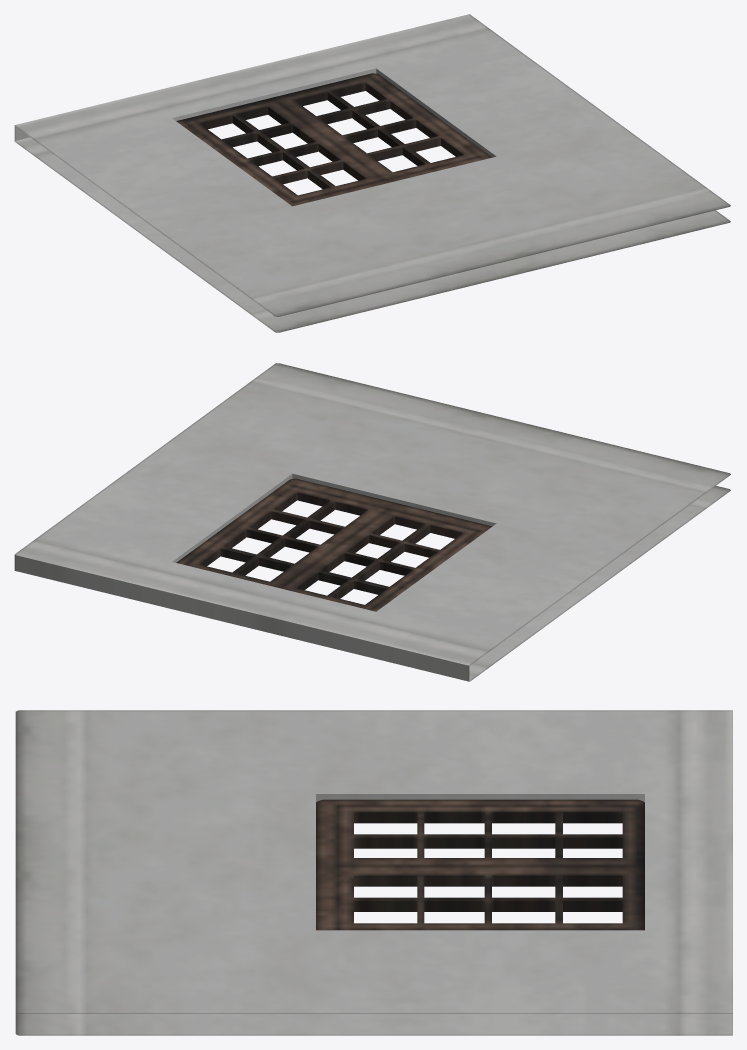
Rendered from SM_EC_House_Wall_Window_1_3x3_2.fbx.
The picture shows the model from 3 angles, top to bottom: view 1: azimuth 30°, elevation 25°; view 2: azimuth 150°, elevation 25°; view 3: azimuth 270°, elevation 25°; orthographic projection. The views are drawn at different scales.
Visible parts, largest first — view 1: SM_EC_House_Wall_Window_1_3x3_2; view 2: SM_EC_House_Wall_Window_1_3x3_2; view 3: SM_EC_House_Wall_Window_1_3x3_2.
Part boxes in pixels (bbox=[...]): SM_EC_House_Wall_Window_1_3x3_2: bbox=[14, 14, 730, 332]; SM_EC_House_Wall_Window_1_3x3_2: bbox=[14, 363, 730, 681]; SM_EC_House_Wall_Window_1_3x3_2: bbox=[15, 710, 732, 1035].
Size of the model in its own units: 3 by 3 by 0.1.
